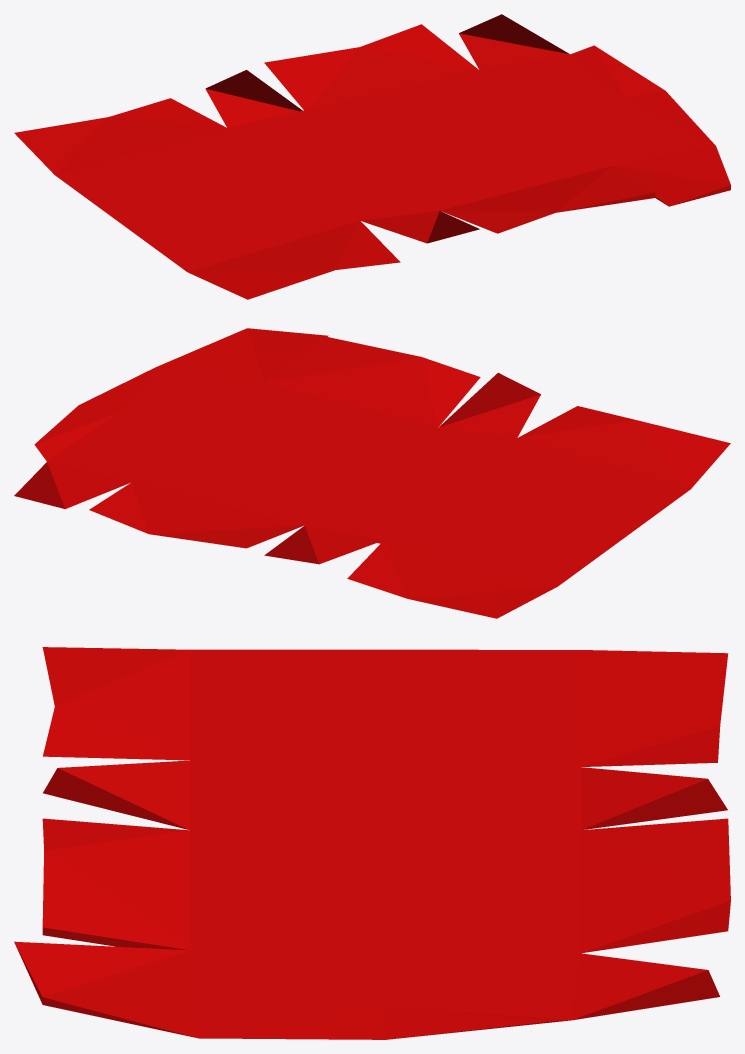
The picture shows the model from 3 angles, top to bottom: view 1: azimuth 30°, elevation 25°; view 2: azimuth 150°, elevation 25°; view 3: azimuth 270°, elevation 25°; orthographic projection. The views are drawn at different scales.
Parts seen in each view (by area): view 1: Mesh; view 2: Mesh; view 3: Mesh.
Boxes of the visible parts, <box> form: Mesh: <box>14,14,730,299</box>; Mesh: <box>14,328,730,618</box>; Mesh: <box>14,647,730,1039</box>.
Size of the model in its own units: 1.89 by 0.0868 by 1.47.
